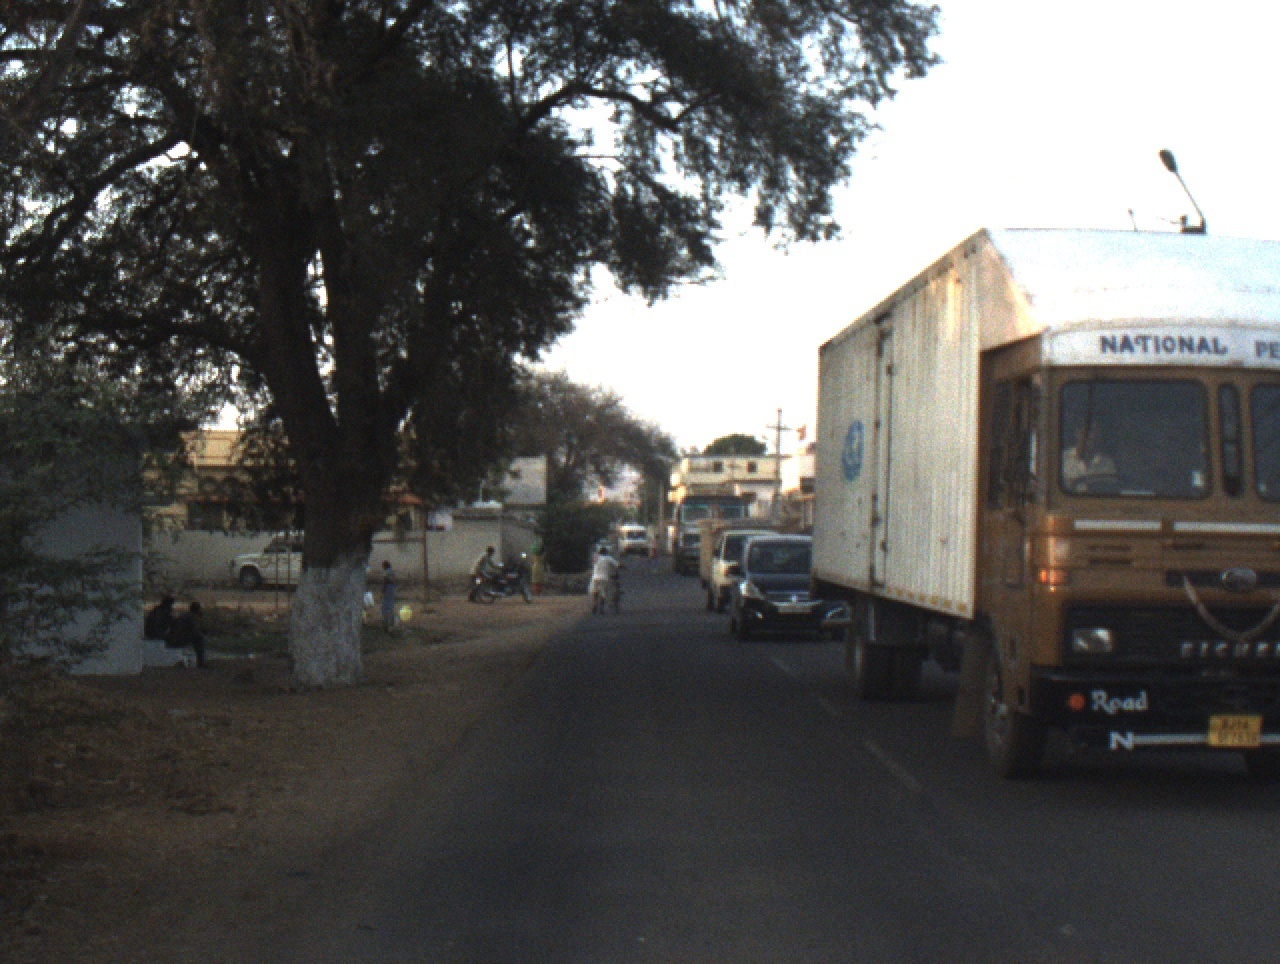bicycle: (608, 563, 630, 620)
bus: (615, 523, 649, 559)
car: (727, 527, 865, 644), (228, 527, 371, 592), (592, 536, 613, 555)
motorcycle: (474, 551, 534, 604)
person: (163, 597, 218, 668), (143, 594, 180, 638), (377, 556, 399, 629), (530, 539, 551, 594), (649, 534, 661, 565)
rider: (466, 542, 503, 603), (589, 547, 618, 615)
truck: (810, 224, 1280, 789), (699, 515, 784, 614), (672, 483, 750, 576)
